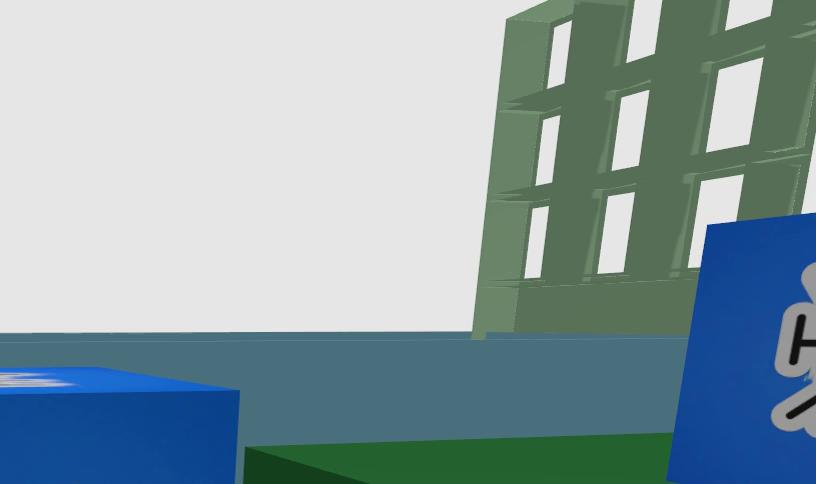KFS_REAL: (667, 213, 815, 484), (0, 367, 238, 484), (775, 302, 815, 375), (772, 386, 815, 436), (802, 264, 815, 293)
